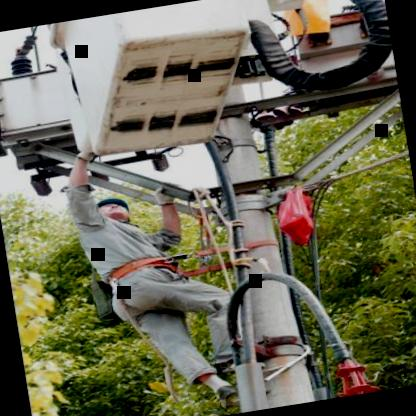helmet: (90, 192, 136, 228)
